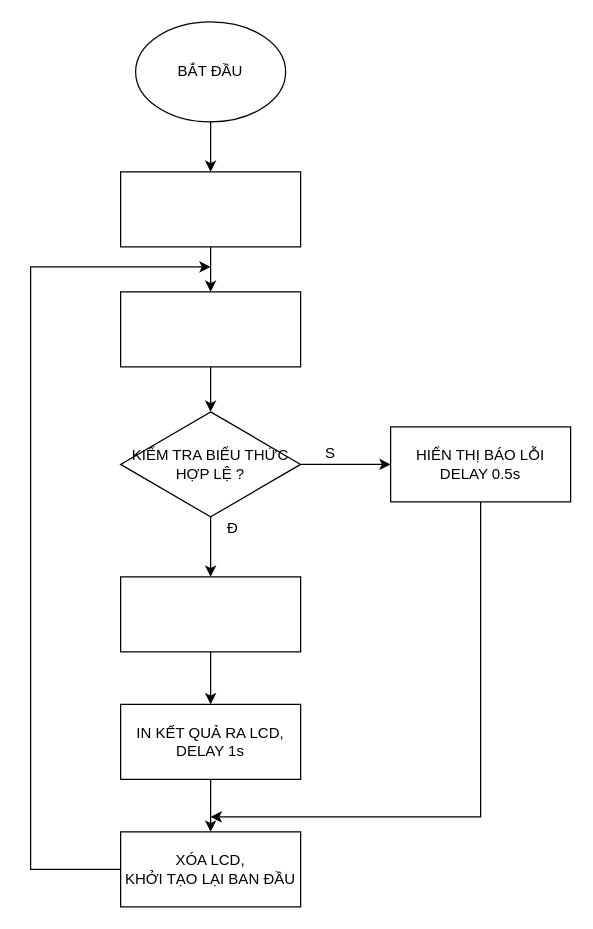
The diagram is 593 pixels wide and 929 high, and some of its shapes have lost their labels. Here are the shapes that lost their labels. From the top down, the centre of each, then its label:
At point 210,209: "KHỞI TẠO BAN ĐẦU, BẬT LCD".
At point 210,329: "NHẬP BIỂU THỨC, HIỂN THỊ LÊN LCD".
At point 210,614: "TÍNH TOÁN".
